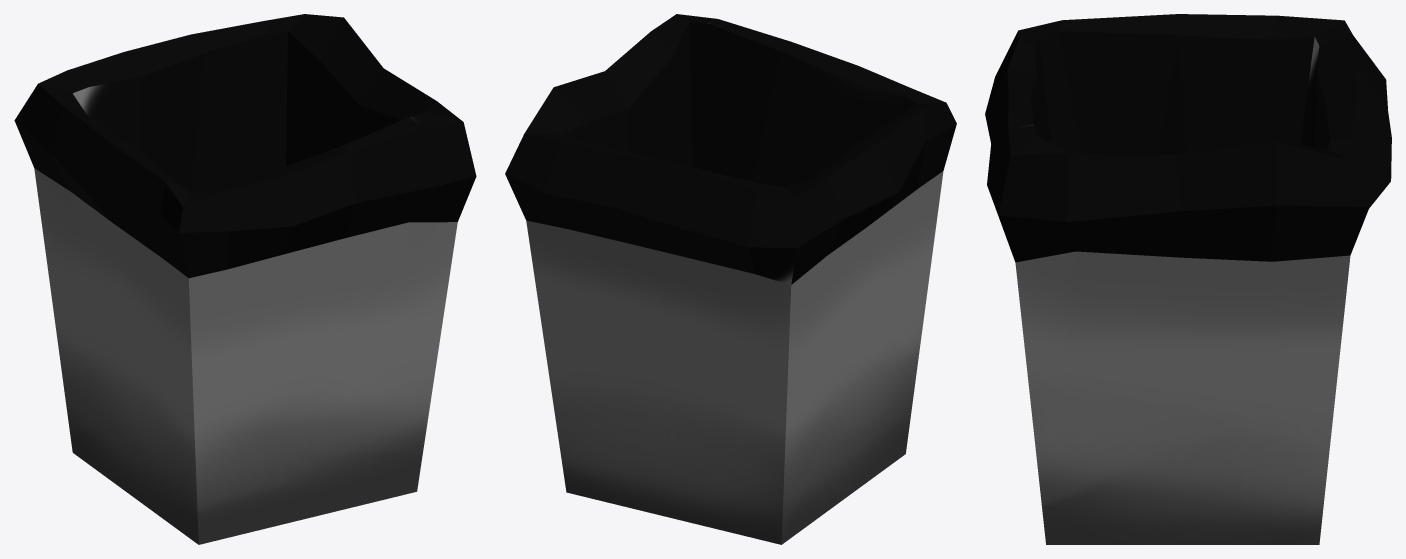
The model's file is GarbageCan.fbx.
3 views of the same model, side by side, from view 1: azimuth 30°, elevation 25°; view 2: azimuth 150°, elevation 25°; view 3: azimuth 270°, elevation 25° (orthographic). The views are drawn at different scales.
Visible parts, largest first — view 1: Cube; view 2: Cube; view 3: Cube.
Boxes of the visible parts, x1,y1,x2,y2 form: Cube: (14,14,476,544); Cube: (505,14,956,544); Cube: (985,14,1391,544).
Bounding box in the file's own units: 201 × 230 × 201.
